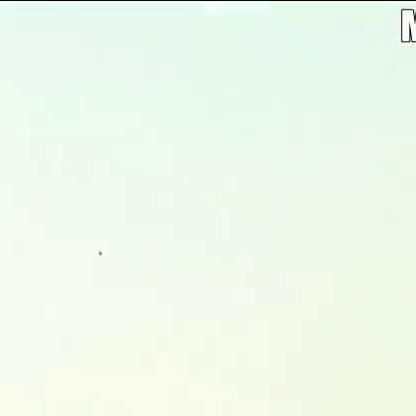golfball: (97, 246, 102, 253)
